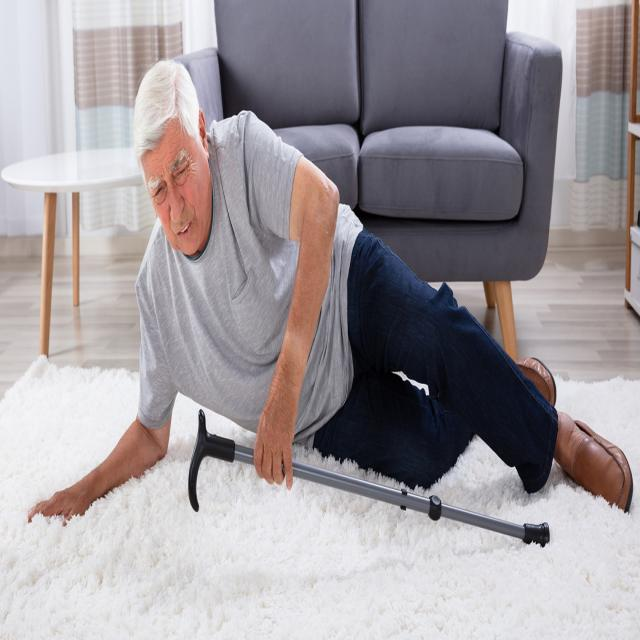Fall-Detected: (24, 51, 638, 536)
